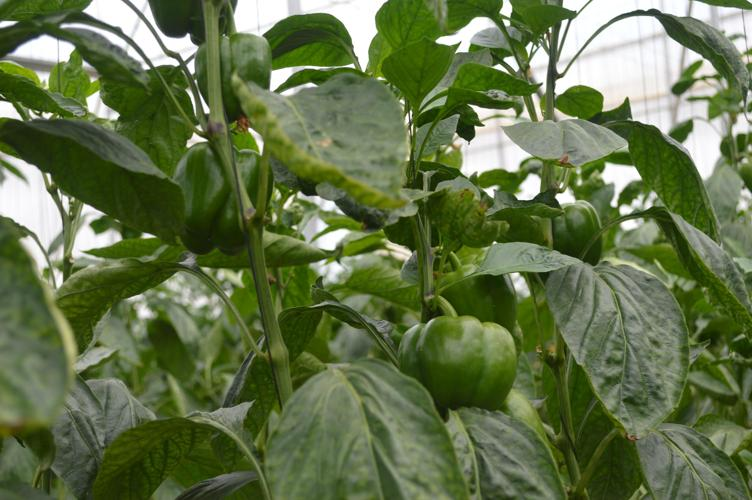BellPepper: (396, 312, 521, 417), (160, 140, 272, 248), (190, 31, 297, 117), (531, 201, 605, 268)
